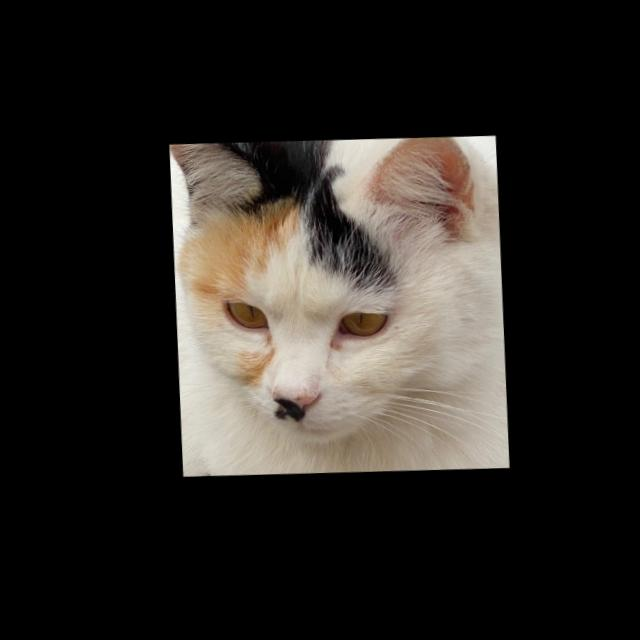animals: (162, 135, 498, 456)
